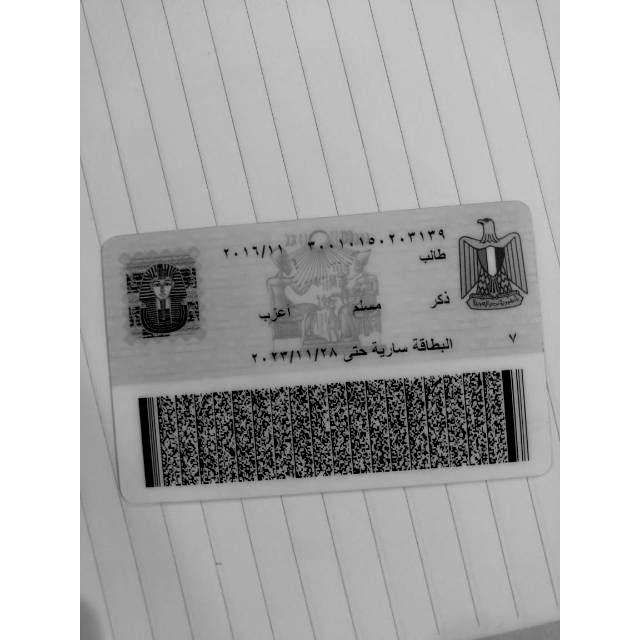back: (102, 201, 551, 505)
